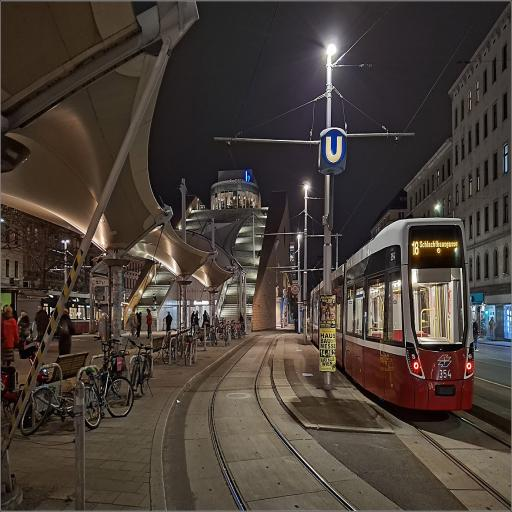Flexity: (311, 221, 478, 411)
